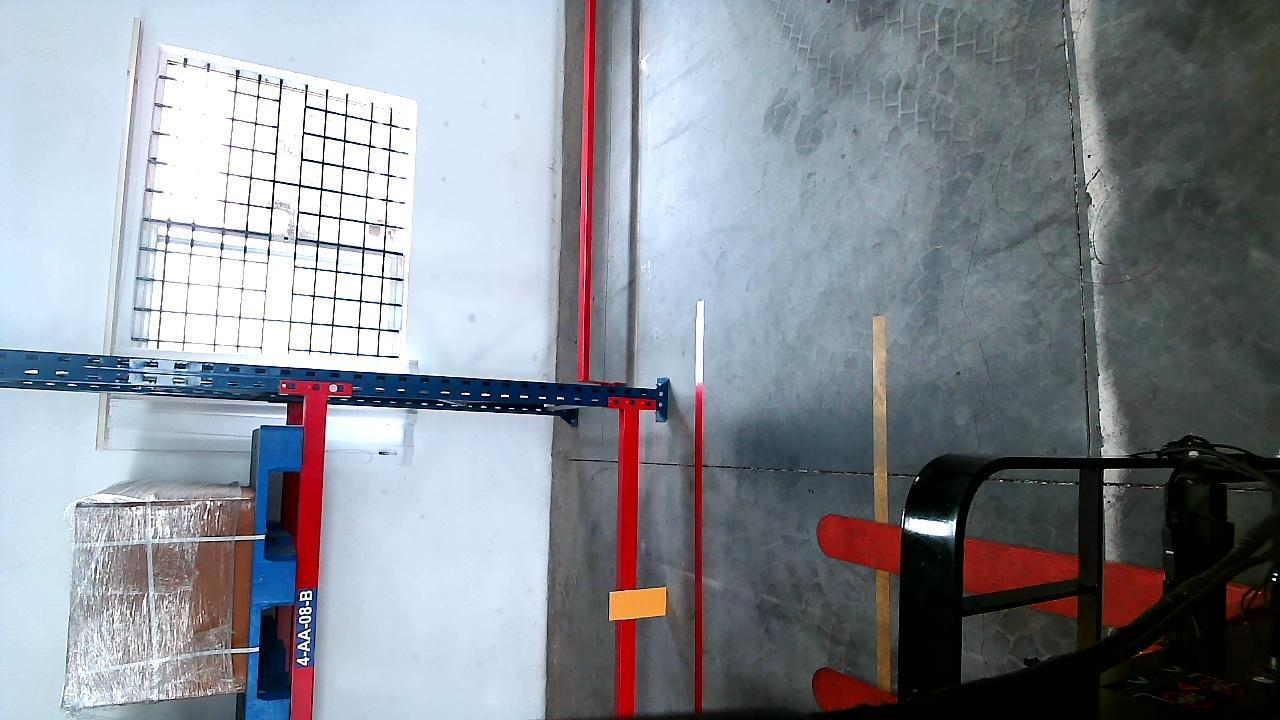h_rack: (290, 405, 328, 720), (617, 398, 645, 714)
orange_strip: (612, 587, 668, 619)
red_line: (685, 330, 711, 715)
small_pallet: (246, 435, 300, 720)
yellow_line: (873, 316, 890, 514)
